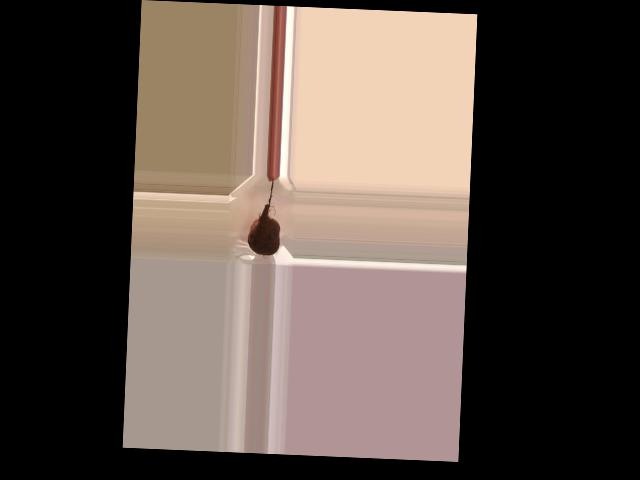beet: (246, 177, 281, 255)
